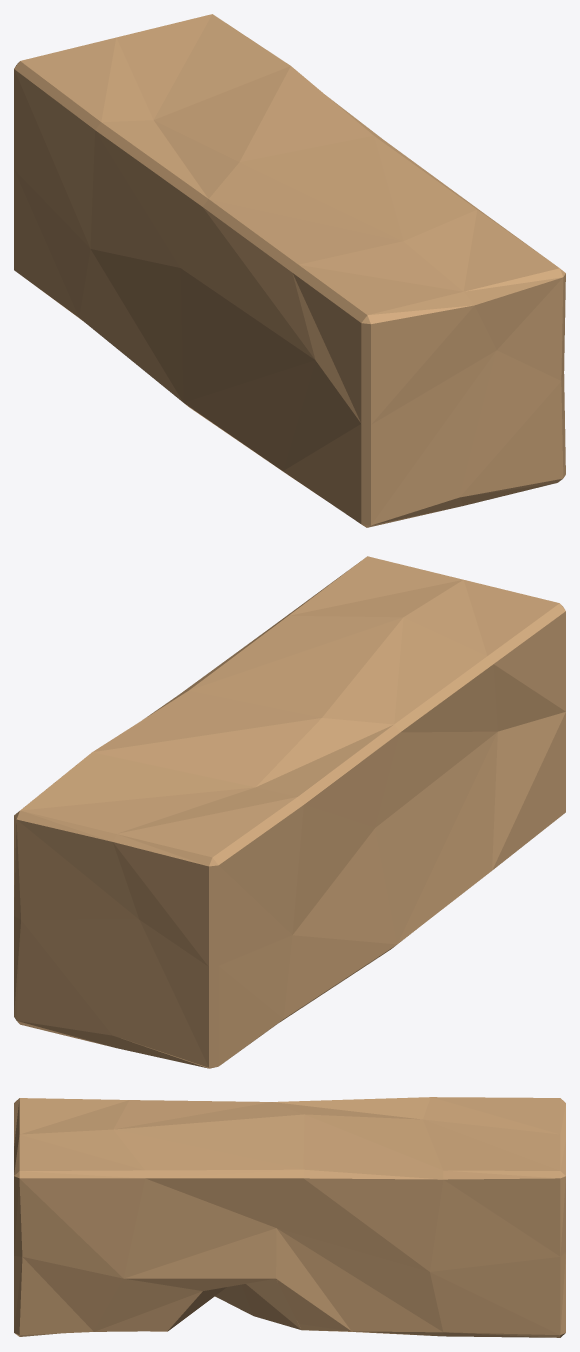
Rendered from Rotating_platform.fbx.
The picture shows the model from 3 angles, top to bottom: view 1: azimuth 30°, elevation 25°; view 2: azimuth 150°, elevation 25°; view 3: azimuth 270°, elevation 25°; orthographic projection. The views are drawn at different scales.
Parts seen in each view (by area): view 1: box_1x1x3; view 2: box_1x1x3; view 3: box_1x1x3.
Boxes of the visible parts, x1,y1,x2,y2 form: box_1x1x3: (14, 14, 565, 527); box_1x1x3: (14, 556, 565, 1068); box_1x1x3: (14, 1097, 565, 1337).
Bounding box in the file's own units: 10.6 × 10.57 × 30.
